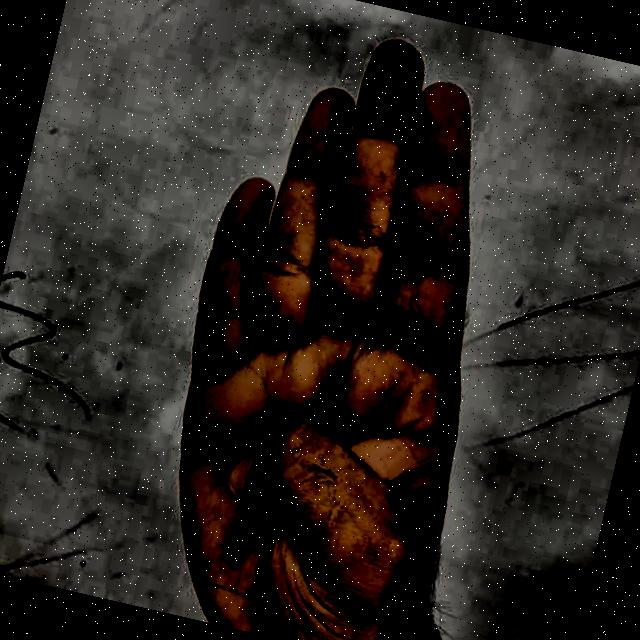Ba: (89, 0, 593, 640)
